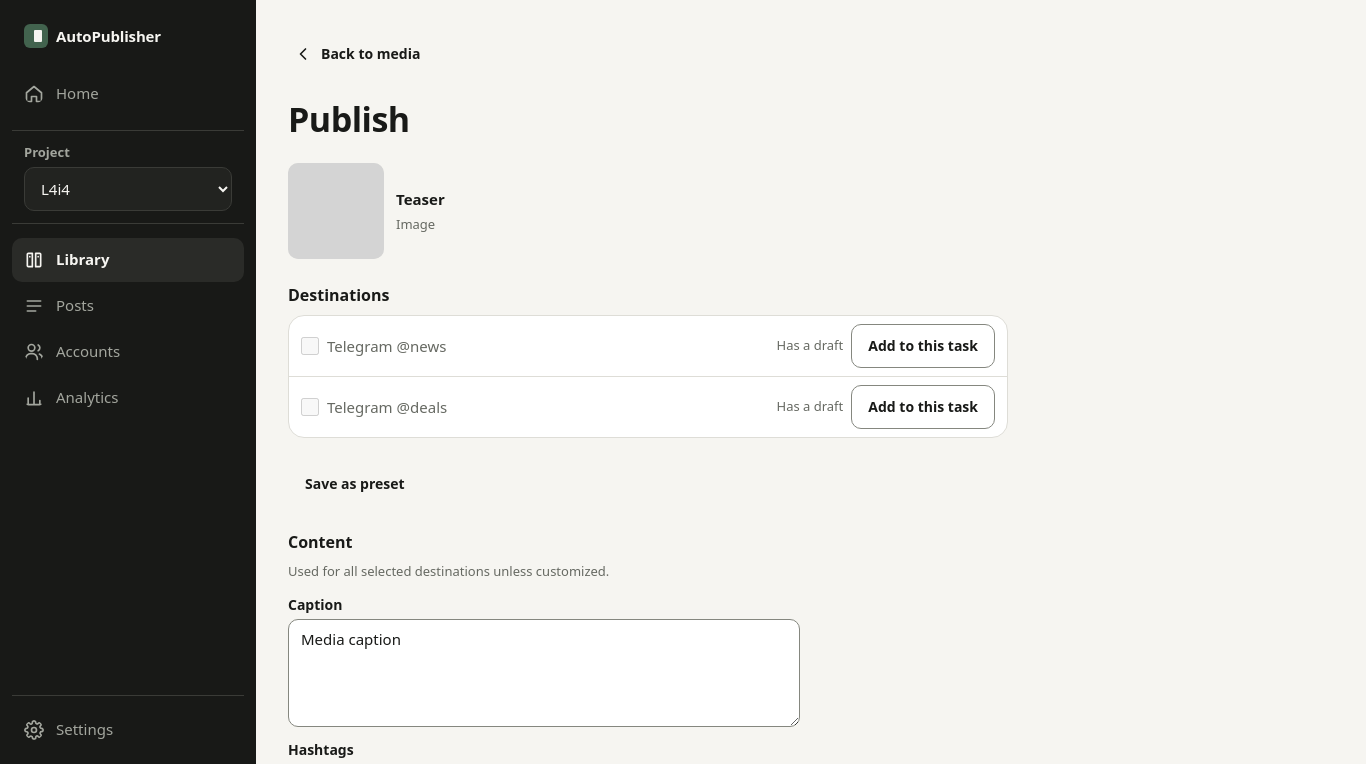
Test: in Compose, Add to this task opens Review with that Draft (no write)
Click the button with aria-label "Add the draft of Telegram @deals to this task": (923,407) [851, 385, 995, 429]
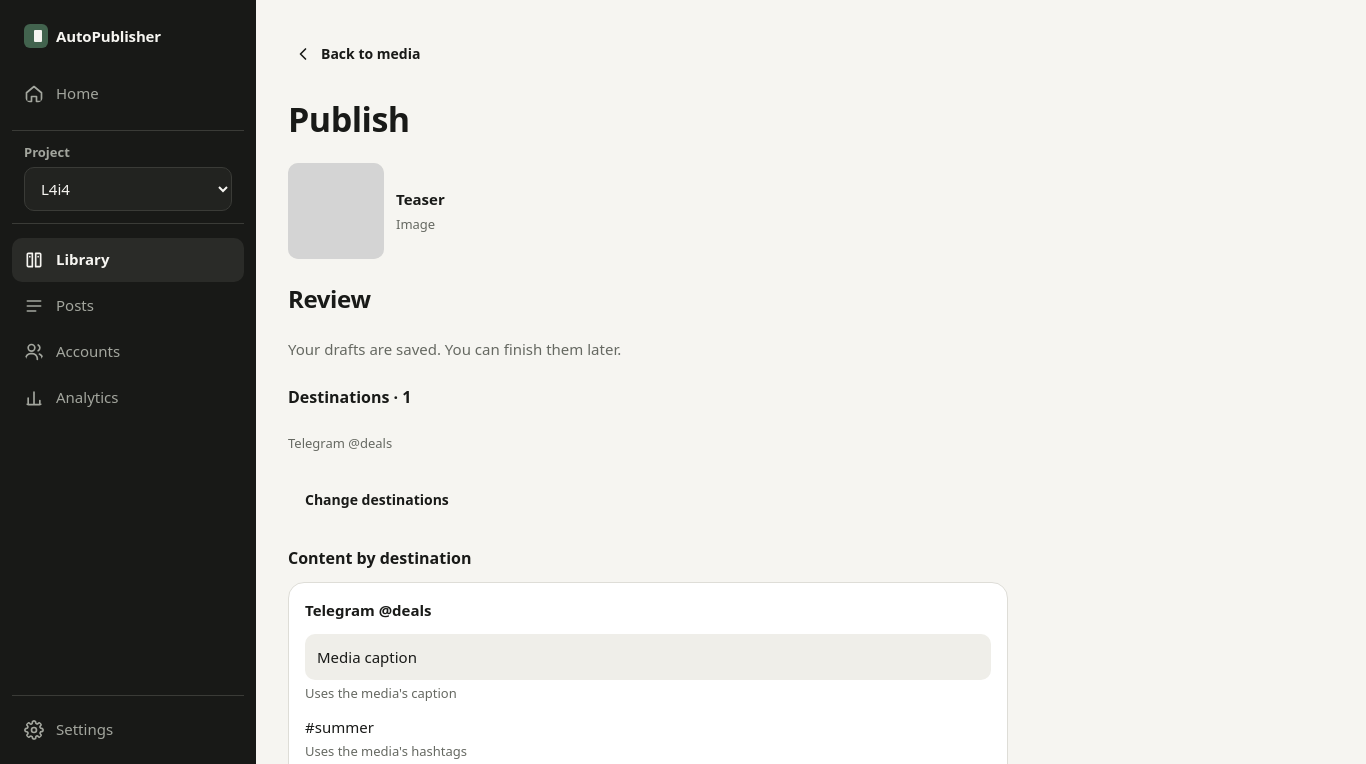
Expected: the heading "Review" is shown, [288, 282, 371, 315]
